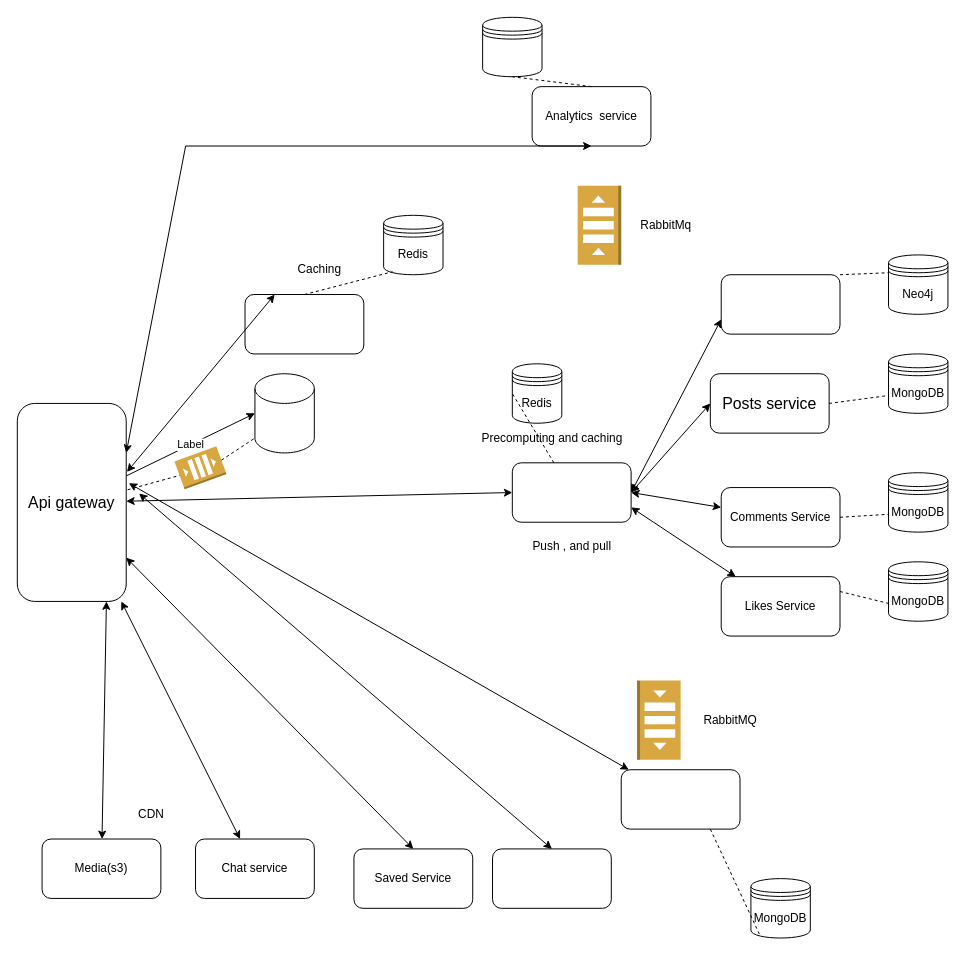
The diagram is 965 pixels wide and 955 high, and some of its shapes have lost their labels. The shapes that lost their labels are listed below. From the top down, each one's centre as x and y in pixels, then its label:
At (x=512, y=46): "InfluxDb".
At (x=304, y=324): "Search service".
At (x=780, y=304): "Users service".
At (x=284, y=413): "Redis Session DB".
At (x=571, y=492): "Feeds".
At (x=680, y=799): "Notification Service".
At (x=551, y=878): "Admin Services".
